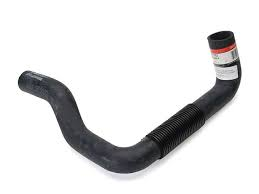radiator_hose: (20, 32, 242, 173)
